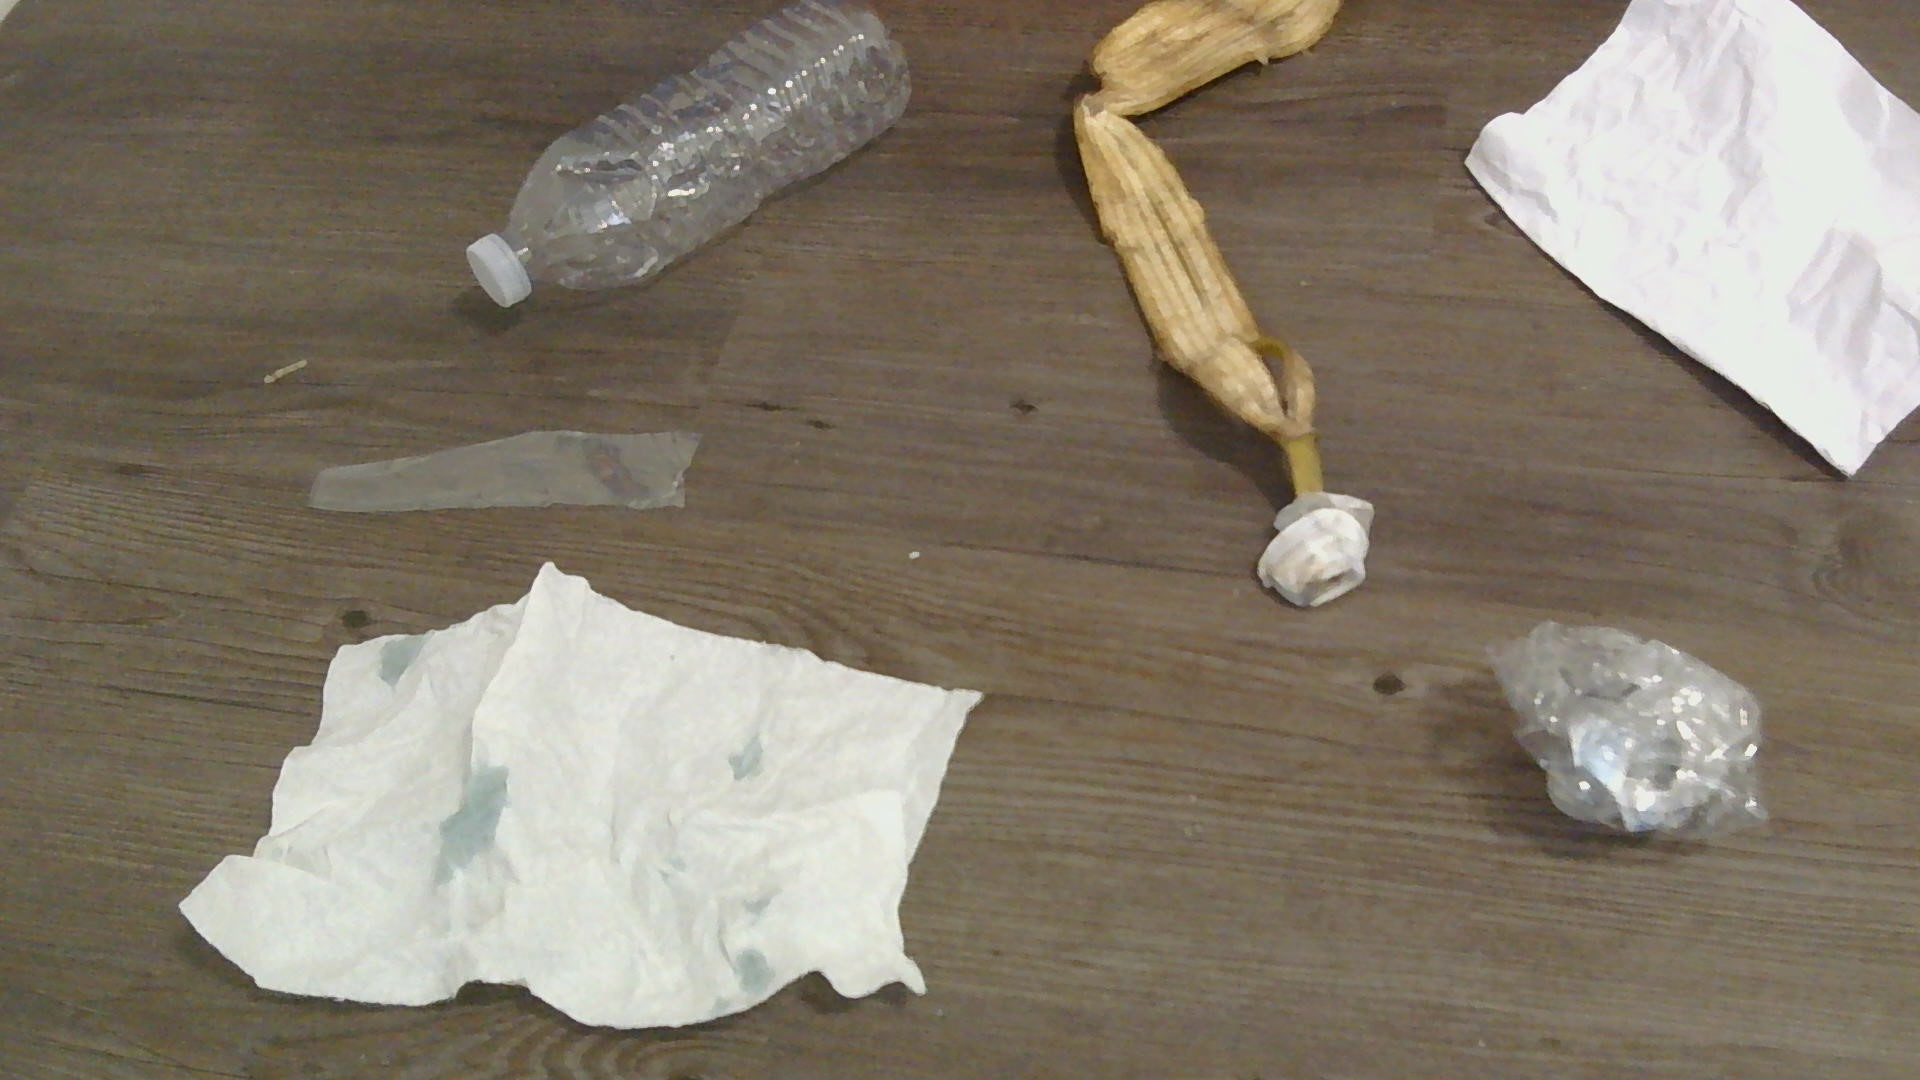banana peel: (1062, 90, 1371, 603)
bottle: (462, 0, 915, 303)
crushed bottle: (1482, 618, 1767, 831)
napkin: (177, 558, 975, 1023)
paper: (1470, 0, 1917, 471)
plastic piece: (306, 426, 699, 520)
